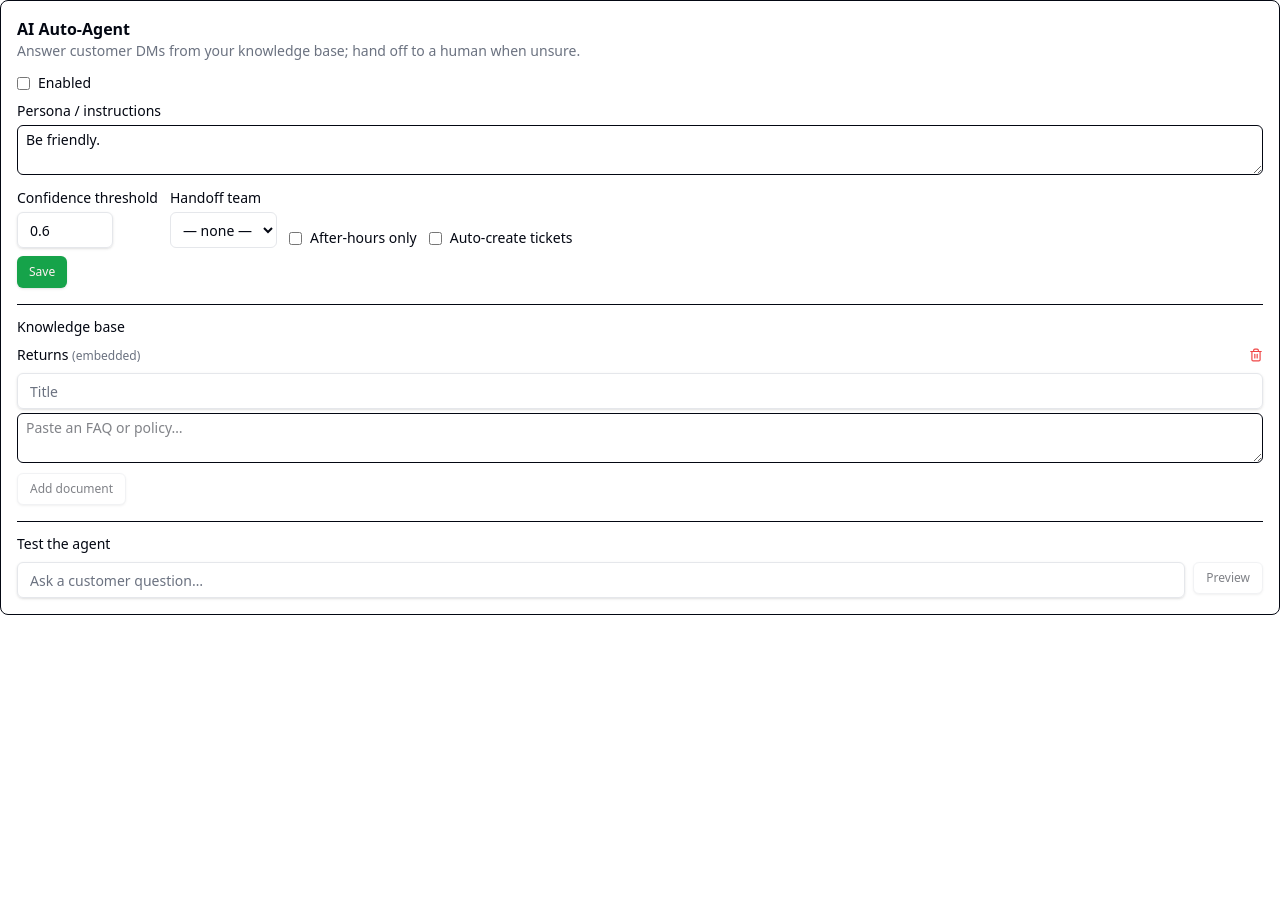
Test case: AiAgentCard › previews an answer
Type "shipping time?" into the field named "Test question" at (601, 580), box [17, 562, 1185, 598]
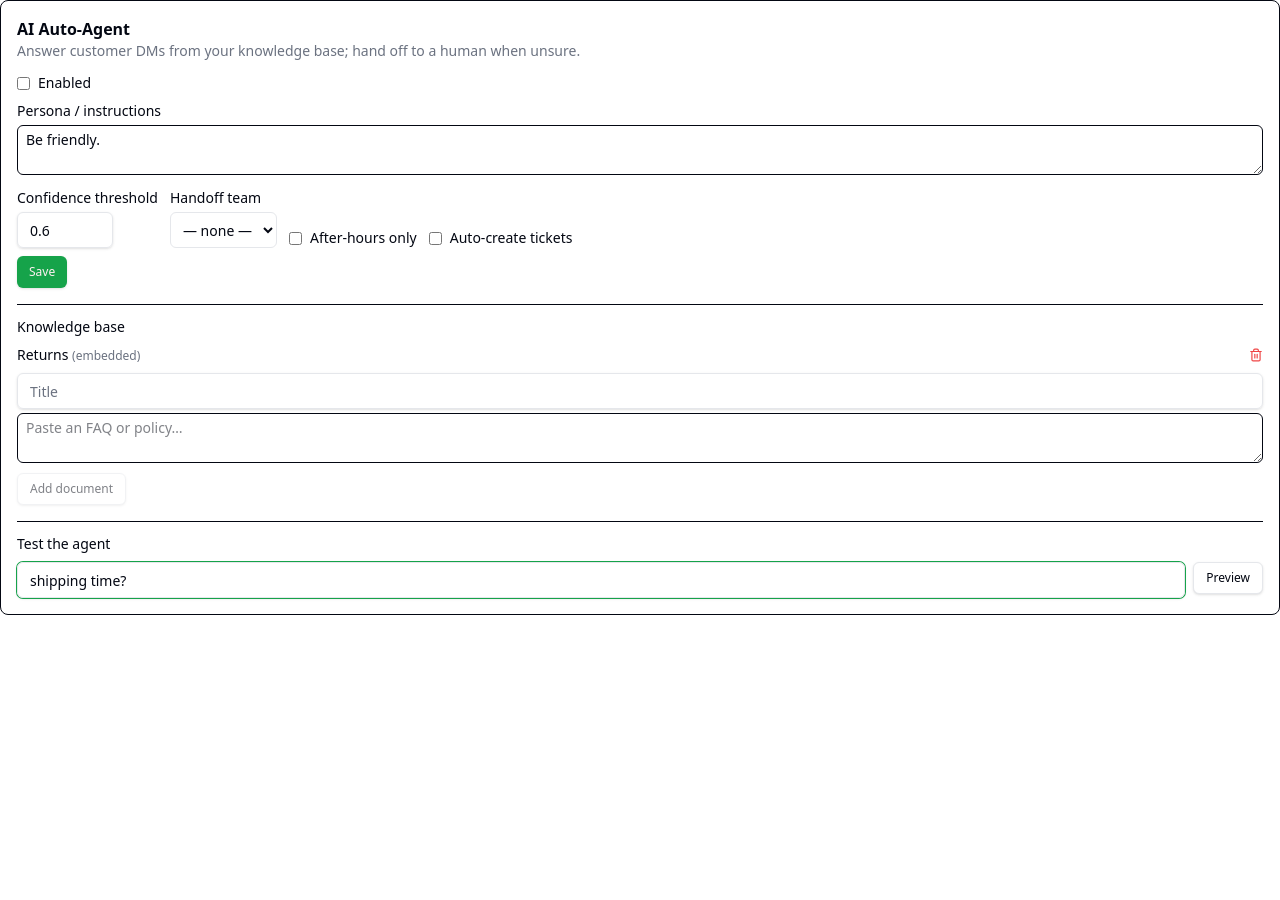
Click the button "Preview" at (1228, 578), box [1193, 562, 1263, 594]
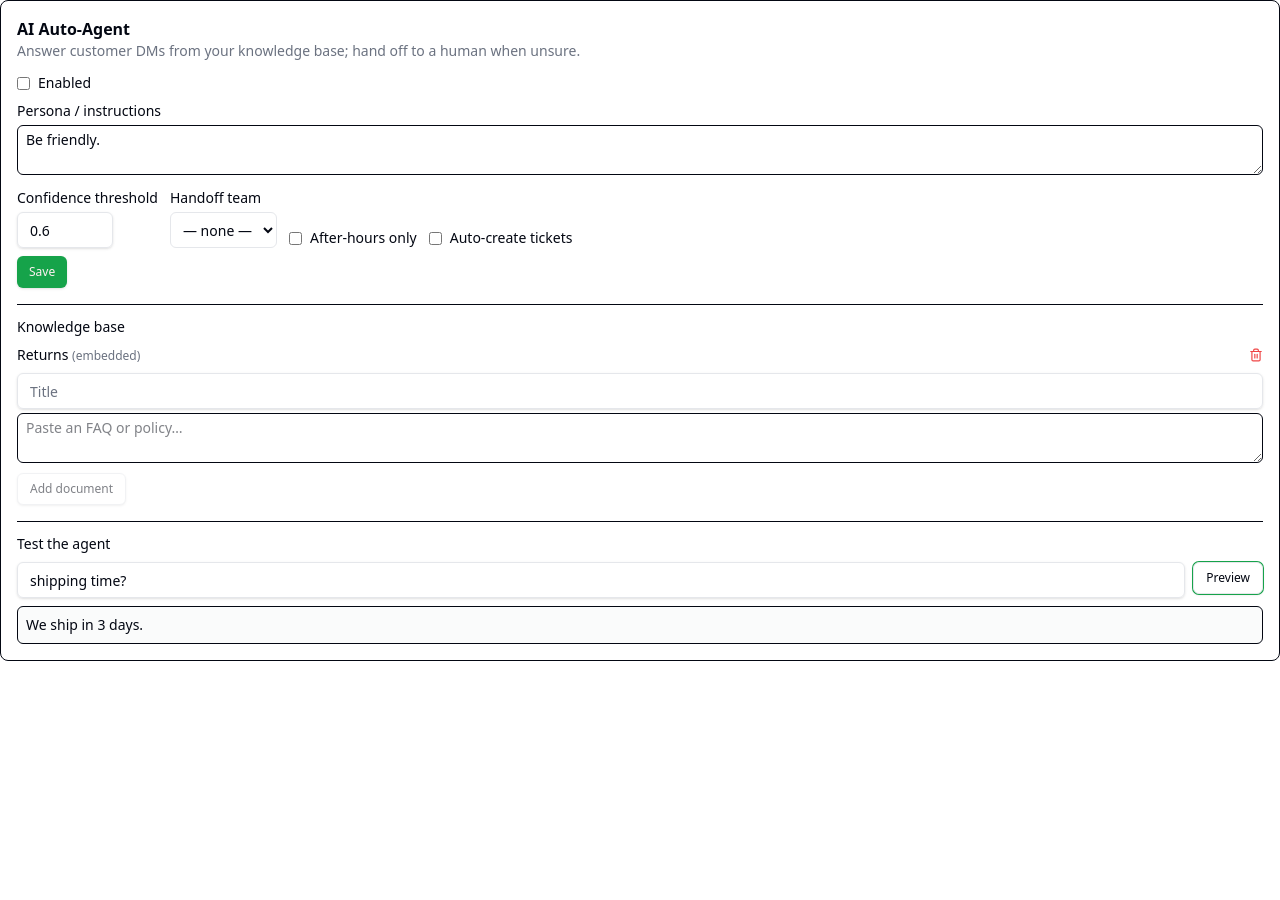
Check: the text with test id "preview-result" reads "We ship in 3 days.", box [26, 615, 143, 634]
